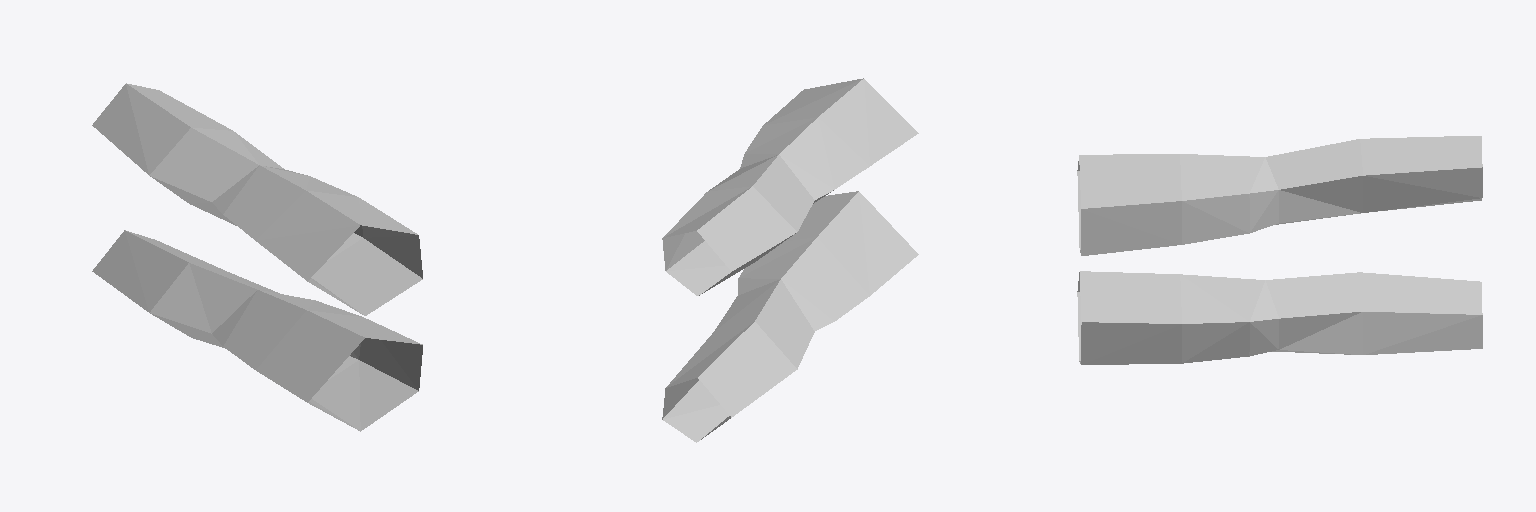
The picture shows the model from 3 angles: view 1: azimuth 30°, elevation 25°; view 2: azimuth 150°, elevation 25°; view 3: azimuth 270°, elevation 25°; orthographic projection.
Parts seen in each view (by area): view 1: ka_thigh_001; view 2: ka_thigh_001; view 3: ka_thigh_001.
Part boxes in pixels (left/top/right/bottom): ka_thigh_001: left=92, top=83, right=422, bottom=431; ka_thigh_001: left=662, top=78, right=918, bottom=442; ka_thigh_001: left=1077, top=136, right=1482, bottom=364.
Bounding box in the file's own units: 23.44 × 34.89 × 60.37.